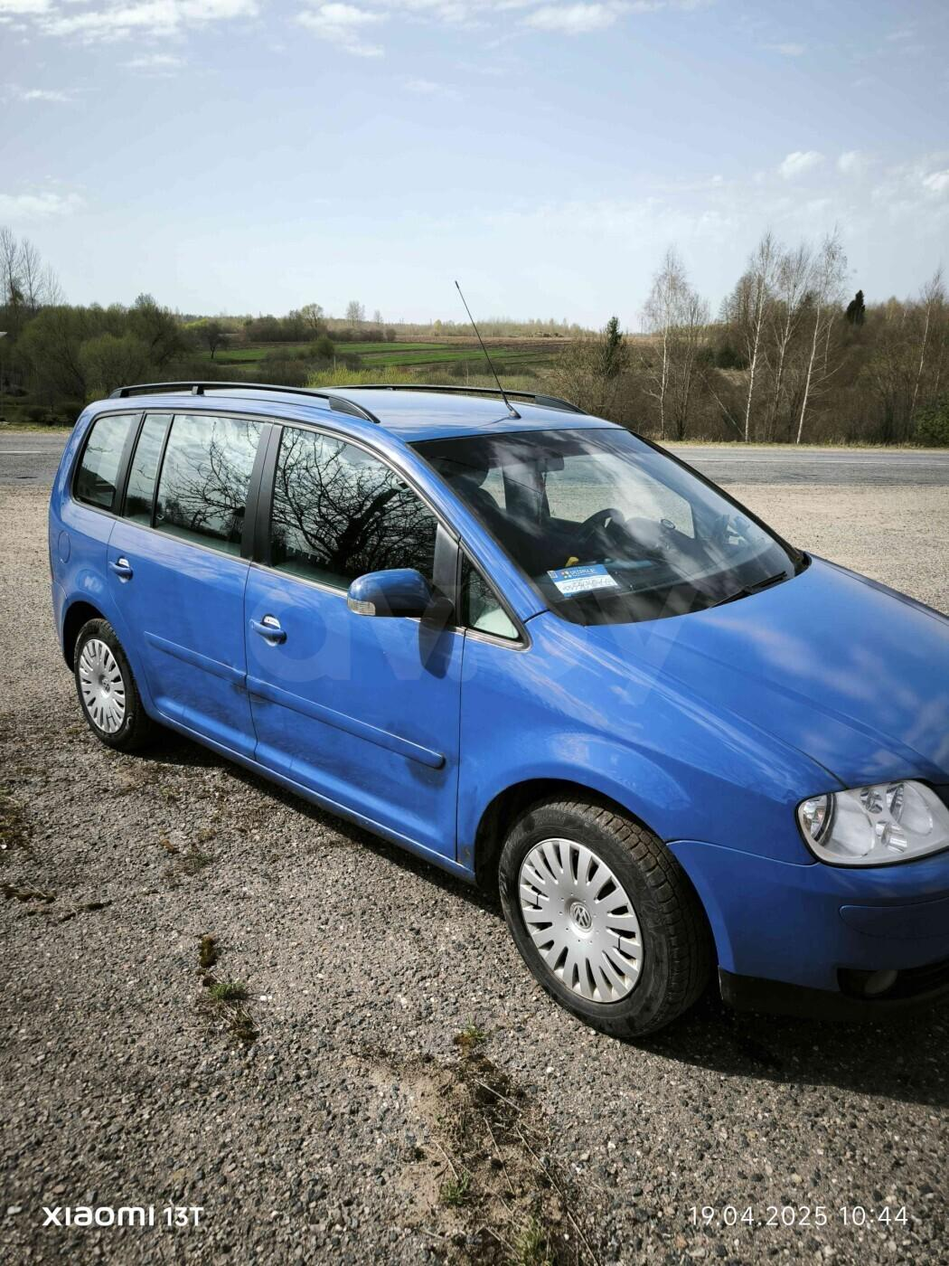Touran_2003-2006: (42, 380, 949, 1044)
